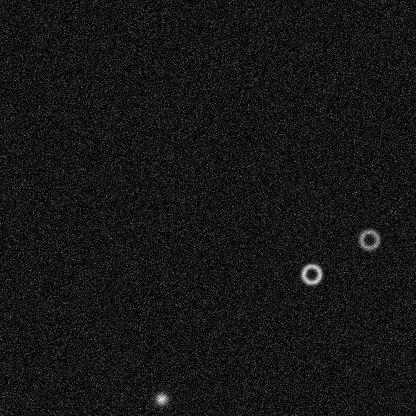Ring: (357, 227, 381, 251), (299, 262, 323, 286)
Spot: (153, 390, 169, 406)
